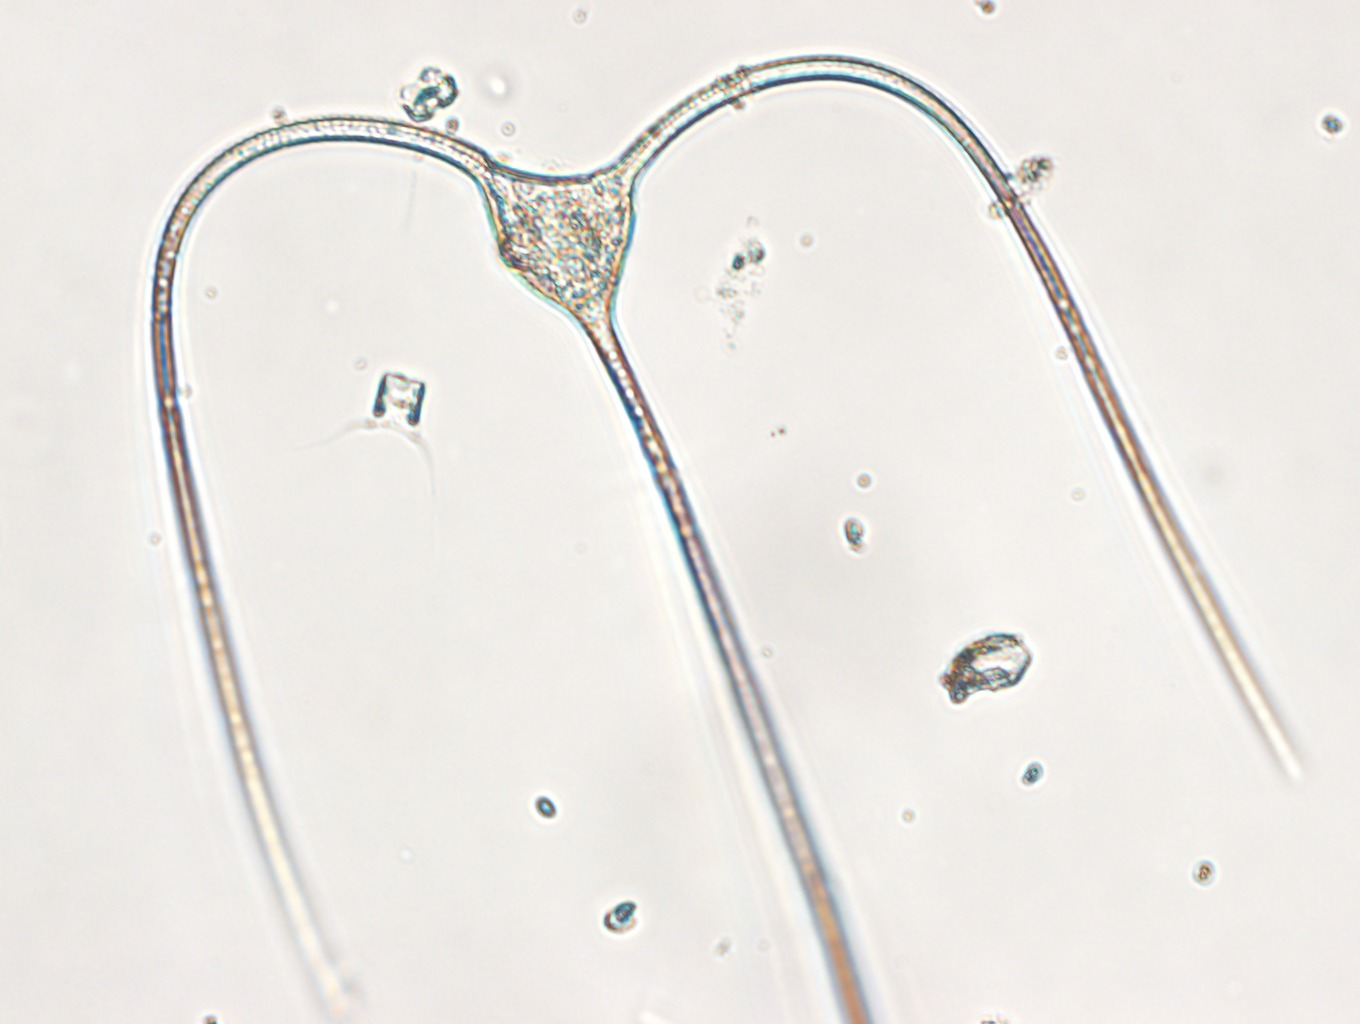ceratium trichoceros: (147, 49, 1309, 1024)
chaetoceros: (330, 369, 441, 499)
